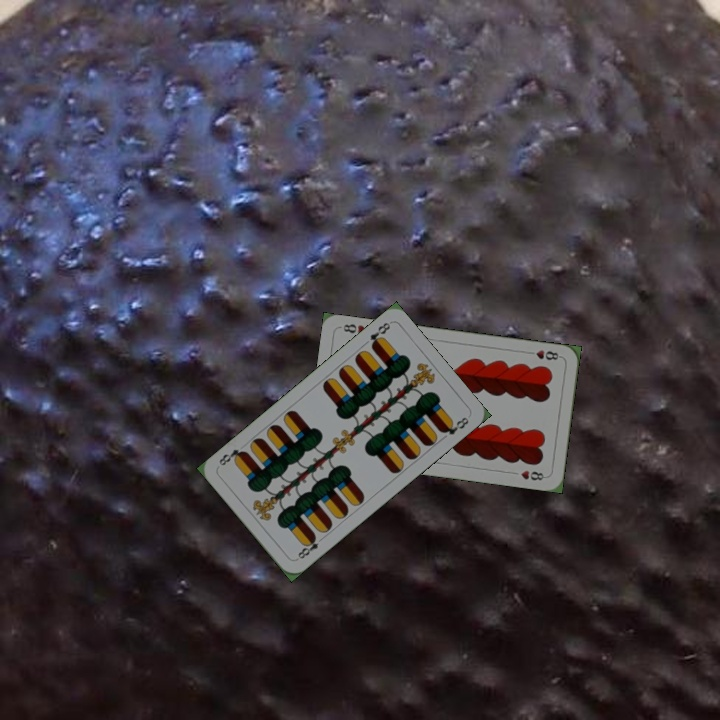E8: (292, 531, 327, 563), (365, 318, 393, 351)
H8: (523, 346, 564, 363)
